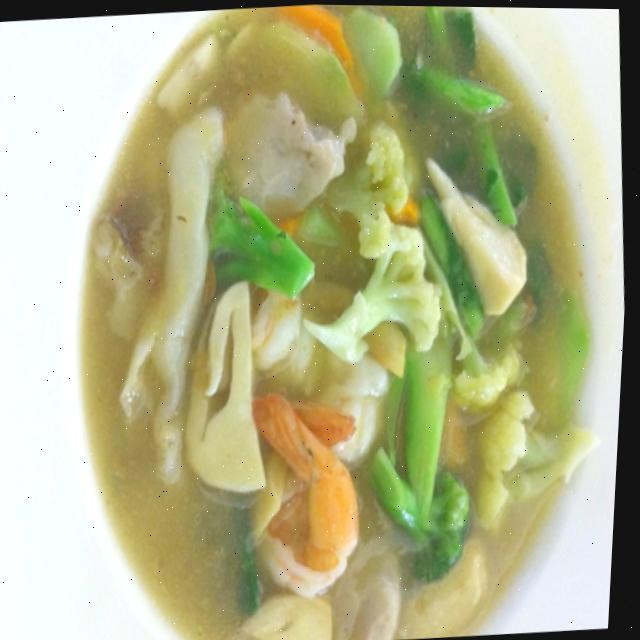面条主食: (33, 1, 640, 640)
